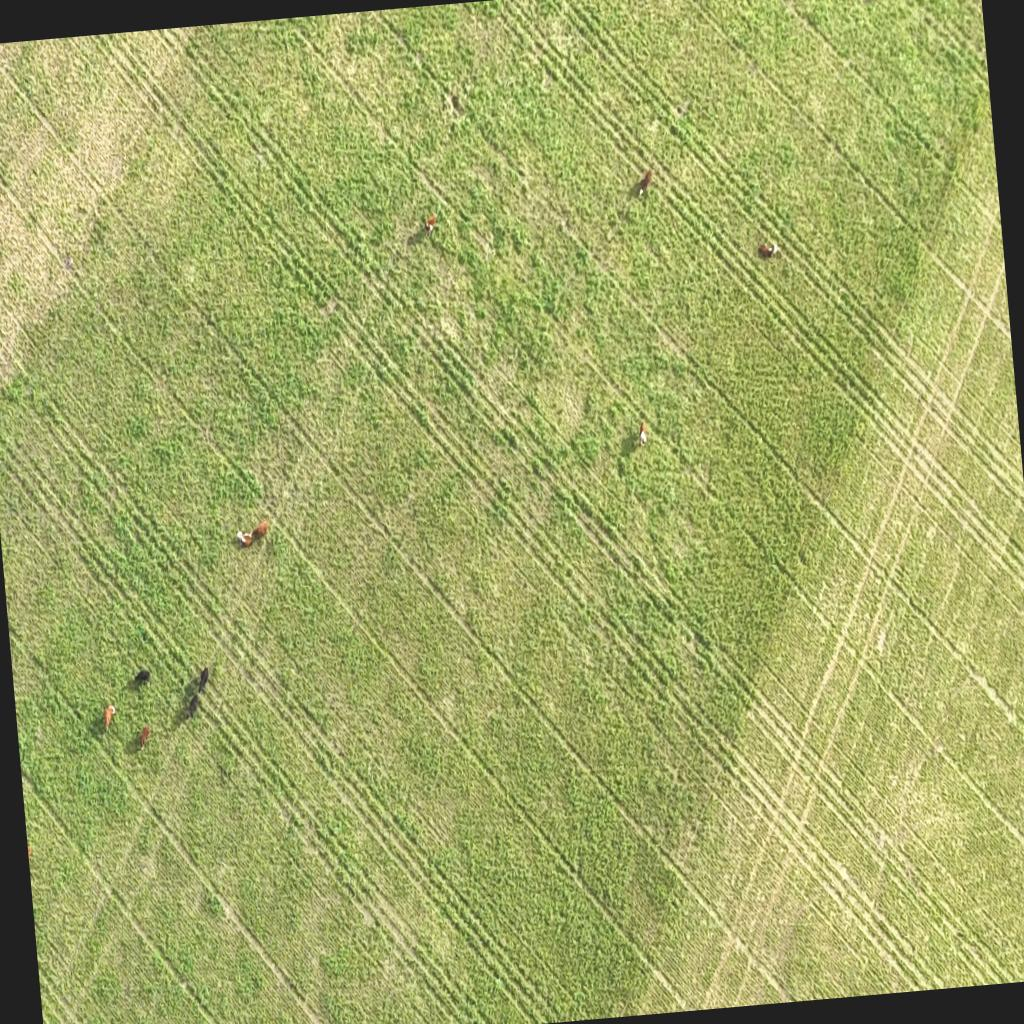cow: (248, 519, 271, 544), (638, 168, 654, 197), (234, 528, 254, 551), (194, 666, 210, 694), (132, 666, 151, 688), (136, 726, 152, 752), (102, 702, 116, 731), (187, 694, 201, 720), (758, 240, 778, 258), (424, 213, 438, 236), (637, 421, 648, 446)
